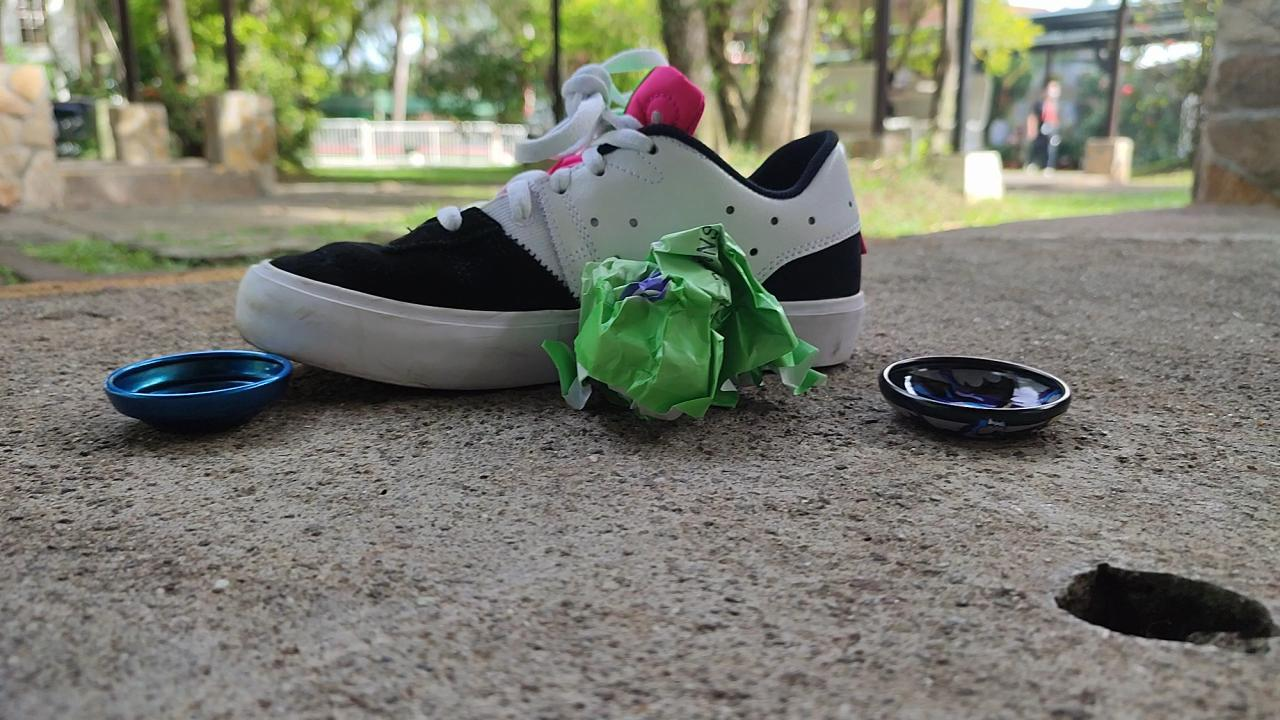Paper: (528, 202, 832, 444)
